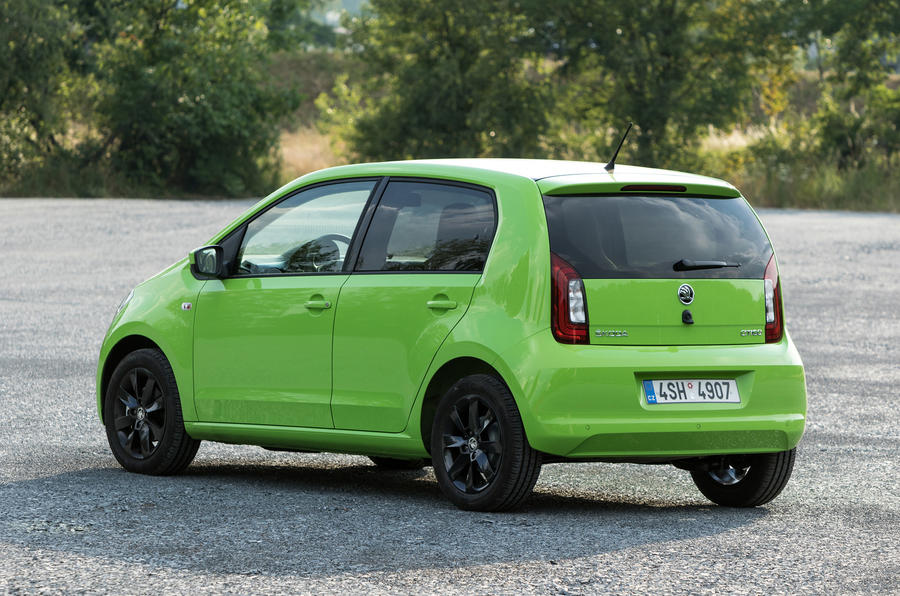car: (88, 160, 809, 516)
